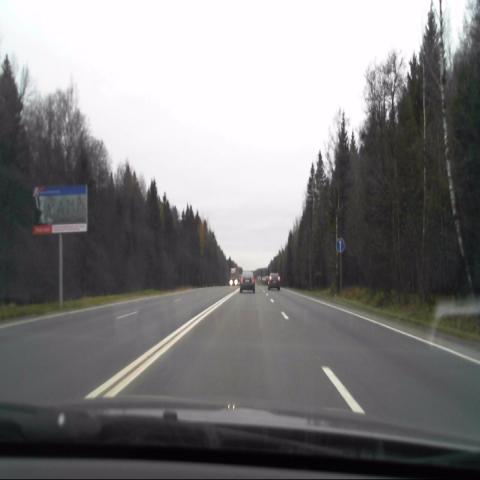4_1_1: (336, 238, 344, 252)
